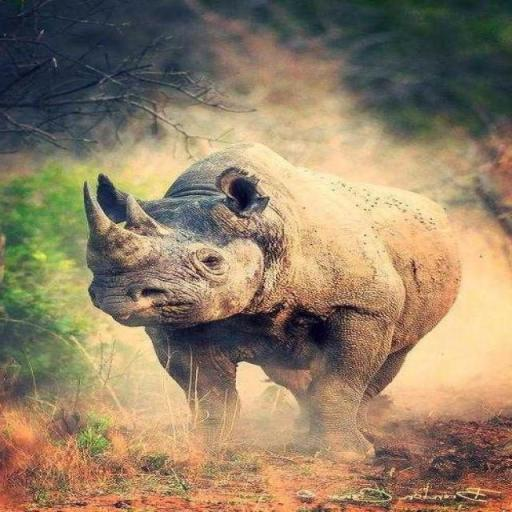Rhino: (80, 140, 464, 464)
